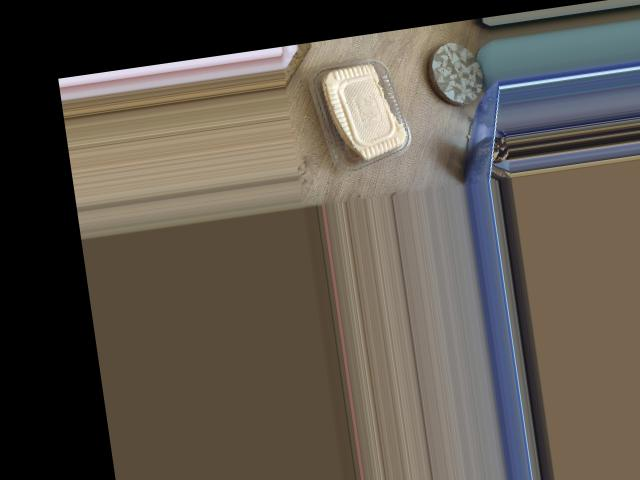cheese: (280, 39, 419, 169)
